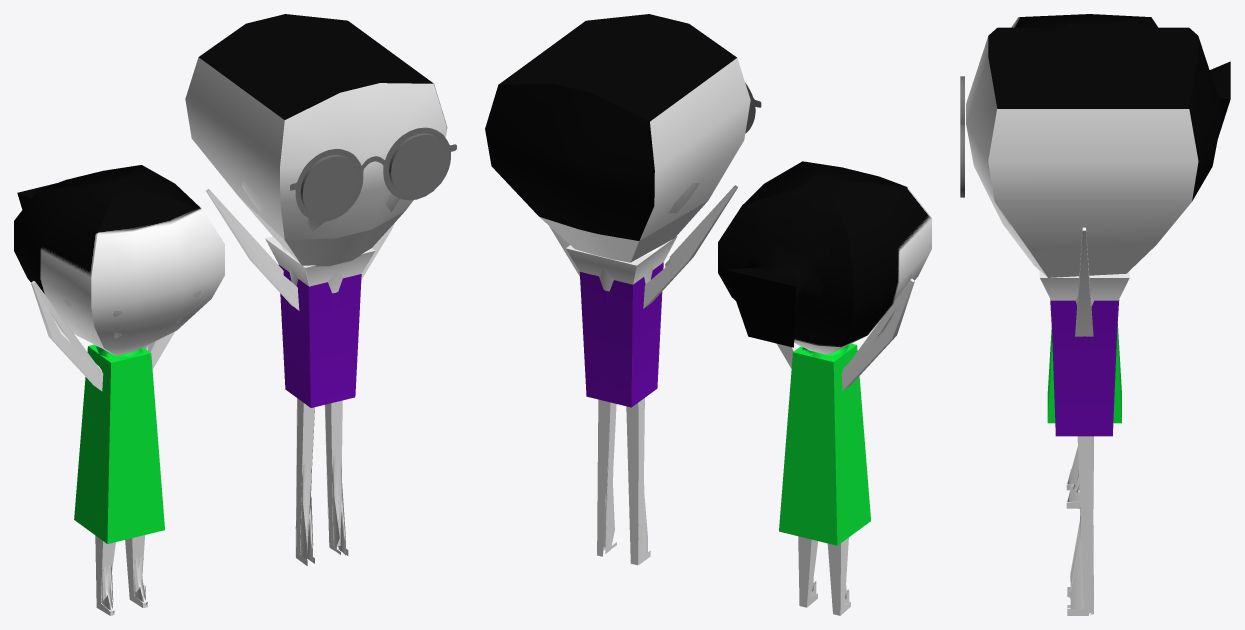
Rendered from E_ch_Duo.fbx.
3 renders of one model, left to right at view 1: azimuth 30°, elevation 25°; view 2: azimuth 150°, elevation 25°; view 3: azimuth 270°, elevation 25°, orthographic. The views are drawn at different scales.
Visible parts, largest first — view 1: mp_ch_duo, lp_ch_duo, hp_e_duo_male, hp_e_duo_female; view 2: mp_ch_duo, hp_e_duo_female, lp_ch_duo, hp_e_duo_male; view 3: mp_ch_duo, hp_e_duo_male, hp_e_duo_female.
Part boxes in pixels (bbox=[...]): mp_ch_duo: bbox=[14, 14, 456, 615]; lp_ch_duo: bbox=[32, 189, 382, 600]; hp_e_duo_male: bbox=[242, 181, 399, 560]; hp_e_duo_female: bbox=[31, 273, 200, 611]; mp_ch_duo: bbox=[485, 14, 931, 615]; hp_e_duo_female: bbox=[744, 229, 911, 604]; lp_ch_duo: bbox=[560, 185, 913, 564]; hp_e_duo_male: bbox=[597, 183, 699, 564]; mp_ch_duo: bbox=[960, 14, 1230, 615]; hp_e_duo_male: bbox=[988, 109, 1119, 614]; hp_e_duo_female: bbox=[1067, 446, 1079, 501].
Size of the model in its own units: 151 by 180 by 78.84.
